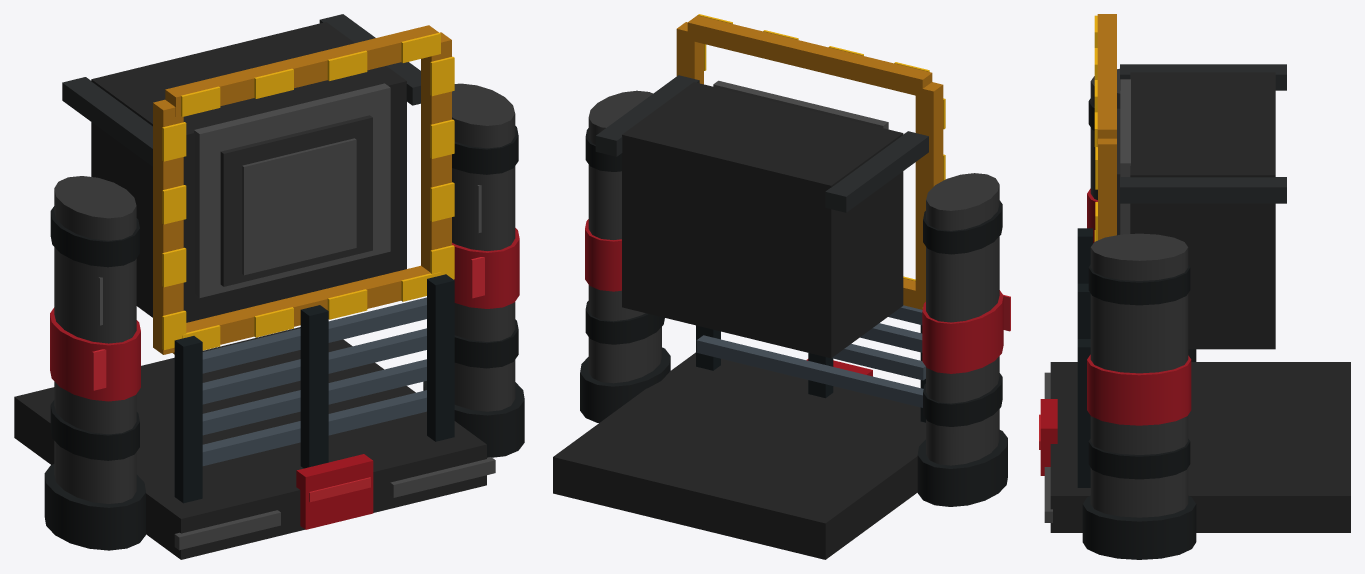
The model's file is CMU3DCMDeployableBarrier.glb.
3 views of the same model, side by side, from view 1: azimuth 30°, elevation 25°; view 2: azimuth 150°, elevation 25°; view 3: azimuth 270°, elevation 25° (orthographic). The views are drawn at different scales.
Visible parts, largest first — view 1: broad foot platform, side actuator housing (×2), center protective casing, front grille crossbar (×4), front grille vertical (×3), center recessed panel, center panel inner plate, hazard cage horizontal (×2), hazard cage side (×2), side actuator collar (×4), side red band (×2), center panel dark recess (+7 smaller); view 2: center protective casing, broad foot platform, side actuator housing (×2), front grille crossbar (×3), side column rubber foot (×2), side actuator collar (×4), hazard cage horizontal, side red band (×2), cage rear brace (×2), hazard cage side (×2), center recessed panel, front grille vertical (×2); view 3: broad foot platform, center protective casing, side actuator housing (×2), cage rear brace (×2), side red band, side actuator collar (×2), side column rubber foot, front grille vertical (×3), hazard cage horizontal, hazard cage side, center recessed panel, red base latch (+2 smaller).
Part boxes in pixels (left/top/right/bottom): broad foot platform: left=14, top=327, right=486, bottom=559; side actuator housing (×2): left=54, top=83, right=515, bottom=503; center protective casing: left=91, top=22, right=406, bottom=322; front grille crossbar (×4): left=202, top=297, right=426, bottom=465; front grille vertical (×3): left=174, top=274, right=454, bottom=503; center recessed panel: left=194, top=83, right=390, bottom=297; center panel inner plate: left=242, top=138, right=356, bottom=275; hazard cage horizontal (×2): left=165, top=25, right=438, bottom=354; hazard cage side (×2): left=153, top=32, right=451, bottom=354; side actuator collar (×4): left=50, top=126, right=518, bottom=460; side red band (×2): left=50, top=228, right=519, bottom=401; center panel dark recess: left=220, top=115, right=372, bottom=286; center protective casing: left=622, top=82, right=903, bottom=358; broad foot platform: left=553, top=352, right=925, bottom=559; side actuator housing (×2): left=588, top=90, right=999, bottom=465; front grille crossbar (×3): left=696, top=323, right=925, bottom=407; side column rubber foot (×2): left=580, top=347, right=1007, bottom=506; side actuator collar (×4): left=585, top=128, right=1002, bottom=426; hazard cage horizontal: left=687, top=15, right=932, bottom=95; side red band (×2): left=585, top=219, right=1003, bottom=373; cage rear brace (×2): left=595, top=75, right=928, bottom=212; hazard cage side (×2): left=676, top=22, right=943, bottom=306; center recessed panel: left=713, top=80, right=888, bottom=129; front grille vertical (×2): left=696, top=325, right=833, bottom=398; broad foot platform: left=1050, top=362, right=1350, bottom=532; center protective casing: left=1130, top=72, right=1275, bottom=349; side actuator housing (×2): left=1090, top=68, right=1188, bottom=517; cage rear brace (×2): left=1120, top=64, right=1286, bottom=203; side red band: left=1087, top=354, right=1191, bottom=425; side actuator collar (×2): left=1088, top=264, right=1190, bottom=479; side column rubber foot: left=1082, top=495, right=1196, bottom=559; front grille vertical (×3): left=1077, top=228, right=1092, bottom=487; hazard cage horizontal: left=1097, top=14, right=1116, bottom=146; hazard cage side: left=1098, top=138, right=1116, bottom=240; center recessed panel: left=1120, top=79, right=1130, bottom=234; red base latch: left=1040, top=399, right=1057, bottom=475.
Size of the model in its own units: 0.856 by 0.782 by 0.56.
